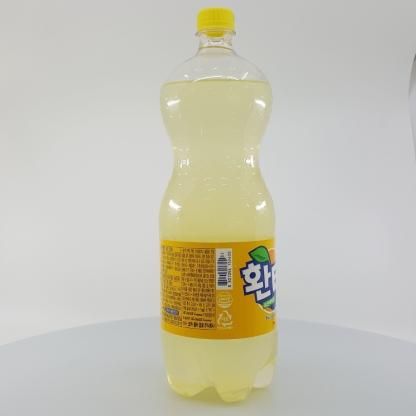--------1-5L: (158, 7, 278, 402)
